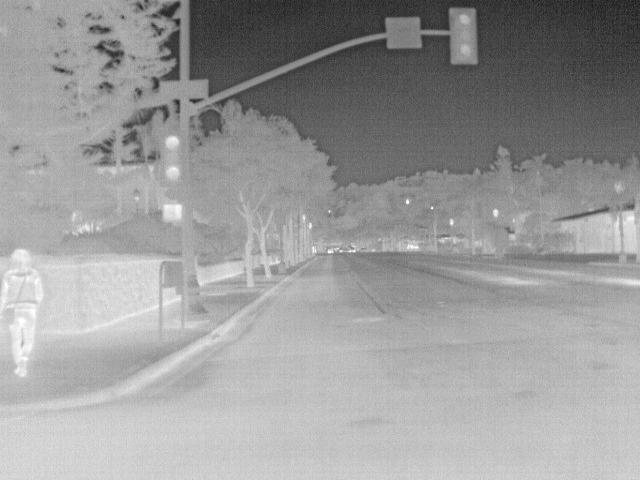person: (2, 249, 46, 380)
